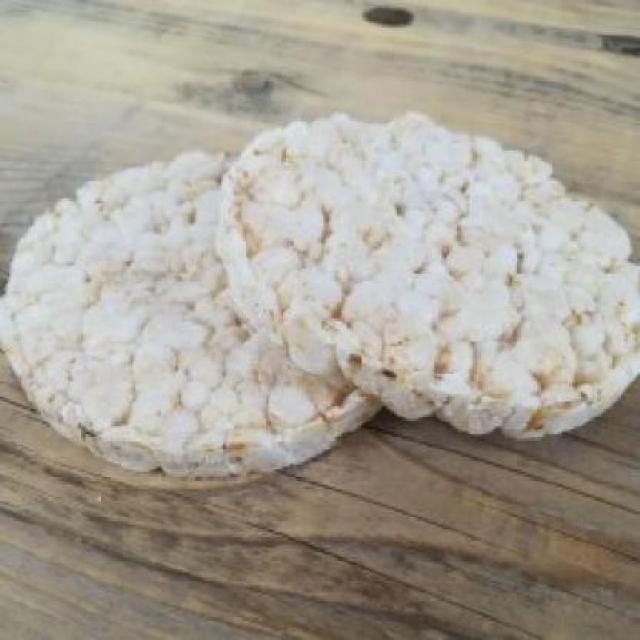Gallette di riso packaged: (210, 103, 638, 444), (9, 156, 382, 490)
